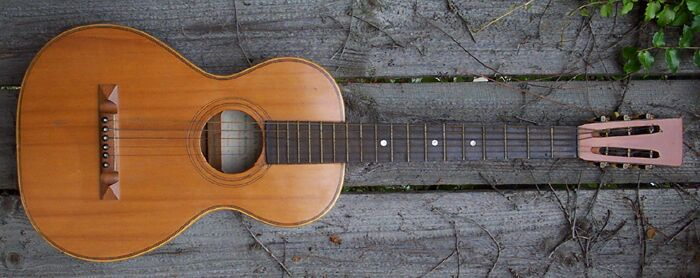guitar: (16, 25, 683, 262)
